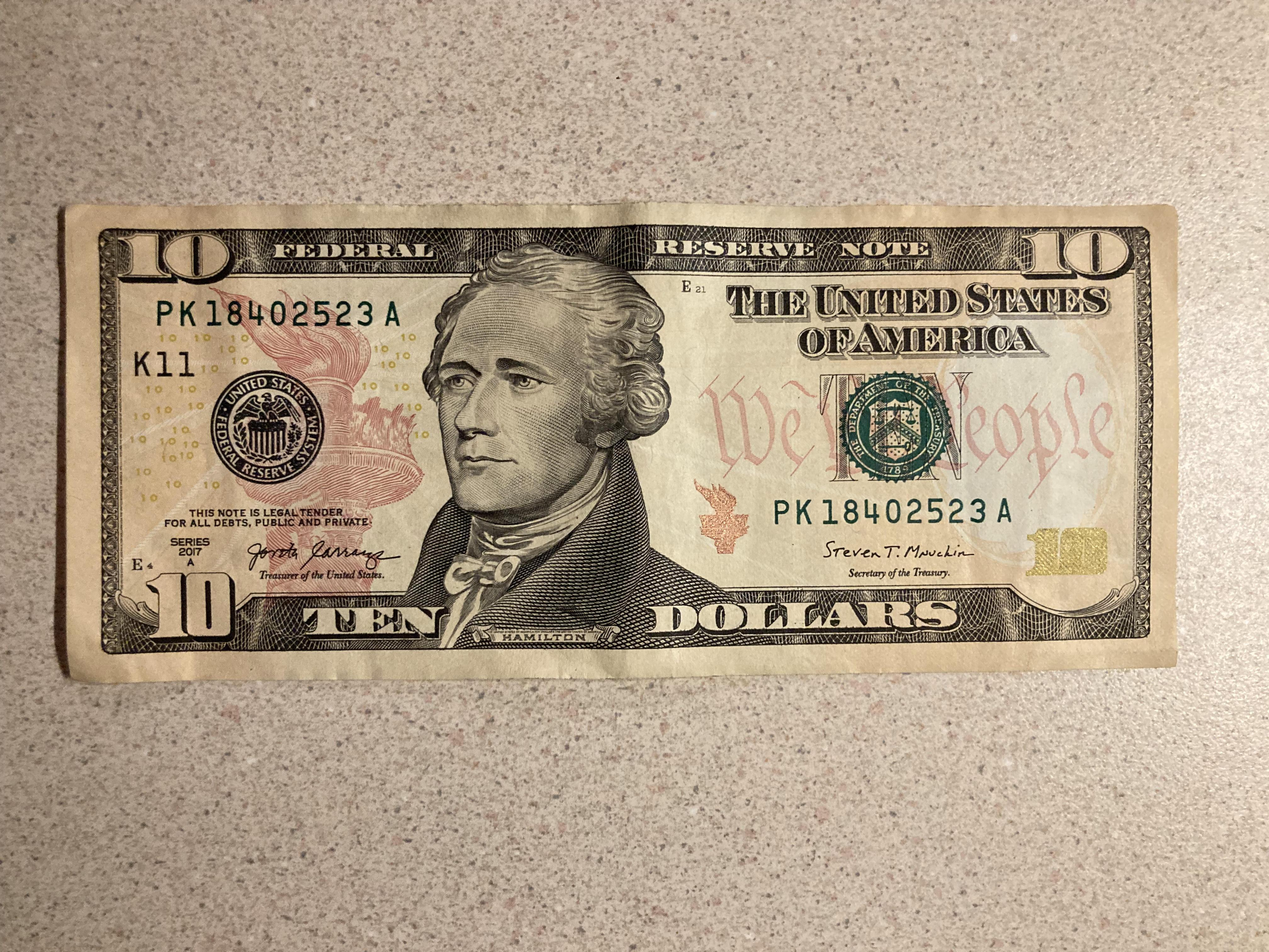ten-front: (58, 198, 1184, 687)
